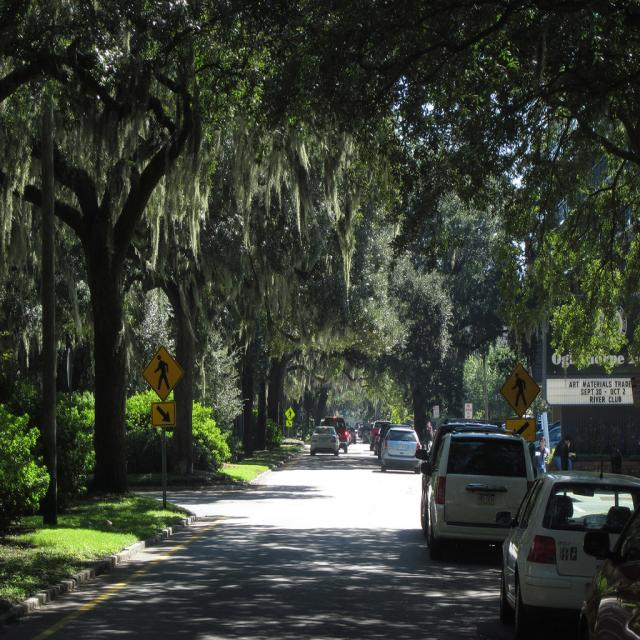car: (310, 423, 341, 460)
